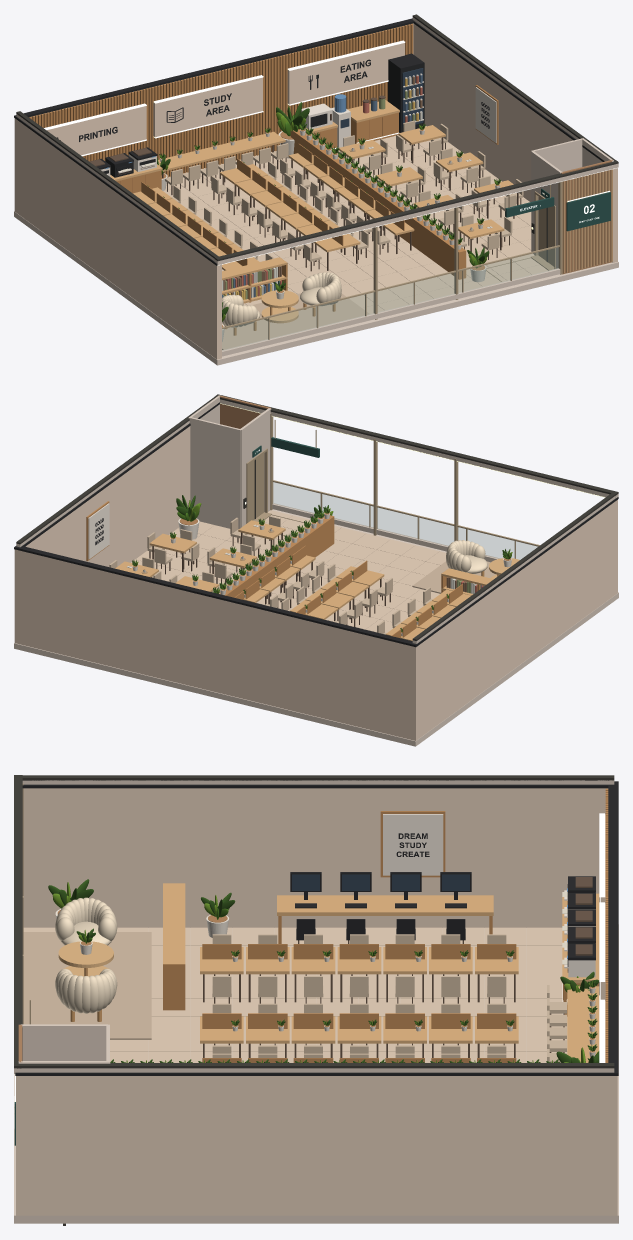
Rendered from Level_02.glb.
3 views of the same model, one above another, from view 1: azimuth 30°, elevation 25°; view 2: azimuth 150°, elevation 25°; view 3: azimuth 270°, elevation 25° (orthographic). The views are drawn at different scales.
Visible parts, largest first — view 1: Second floor slab, walls and entry, Slatted wall and illuminated pictogram signs, Facade | fluted tower, floor marker and cornice, Gallery frontage | glazed parapet, Study carrels.001, Refreshment counter, microwave, water cooler and drinks refr, Lounge seating and coffee table, Aligned elevator | landing doors and well, Floor plate | lift well opening, Study carrels.002, Window study bar and seven stools, Study carrels (+11 smaller); view 2: Second floor slab, walls and entry, Aligned elevator | landing doors and well, Facade | fluted tower, floor marker and cornice, Gallery frontage | glazed parapet, Floor plate | lift well opening, Study carrels.001, Cafe tables and chairs.002, Study carrels.002, Lounge seating and coffee table, Study carrels, Fluted planter partition, Cafe tables and chairs.003 (+5 smaller); view 3: Second floor slab, walls and entry, Study carrels, Facade | fluted tower, floor marker and cornice, Lounge seating and coffee table, Study carrels.001, Computer workstations, Floor plate | lift well opening, Framed wall typography, Five multifunction printers and cabinetry, Aligned elevator | landing doors and well, Window study bar and seven stools, Double-tier library shelf (+4 smaller).
Boxes of the visible parts, <box> form: Second floor slab, walls and entry: <box>14,18,617,359</box>; Slatted wall and illuminated pictogram signs: <box>29,23,413,177</box>; Facade | fluted tower, floor marker and cornice: <box>16,14,618,319</box>; Gallery frontage | glazed parapet: <box>222,245,560,356</box>; Study carrels.001: <box>211,158,368,271</box>; Refreshment counter, microwave, water cooler and drinks refr: <box>301,53,424,150</box>; Lounge seating and coffee table: <box>222,272,369,349</box>; Aligned elevator | landing doors and well: <box>531,138,613,274</box>; Floor plate | lift well opening: <box>14,211,618,365</box>; Study carrels.002: <box>280,143,414,254</box>; Window study bar and seven stools: <box>158,131,288,194</box>; Study carrels: <box>133,182,273,270</box>; Second floor slab, walls and entry: <box>14,402,618,740</box>; Aligned elevator | landing doors and well: <box>188,395,271,529</box>; Facade | fluted tower, floor marker and cornice: <box>16,394,618,643</box>; Gallery frontage | glazed parapet: <box>272,480,539,562</box>; Floor plate | lift well opening: <box>14,509,618,746</box>; Study carrels.001: <box>281,560,392,626</box>; Cafe tables and chairs.002: <box>147,529,259,587</box>; Study carrels.002: <box>234,545,324,608</box>; Lounge seating and coffee table: <box>412,540,519,593</box>; Study carrels: <box>377,584,470,640</box>; Fluted planter partition: <box>219,515,334,597</box>; Cafe tables and chairs.003: <box>230,516,292,557</box>; Second floor slab, walls and entry: <box>15,781,618,1215</box>; Study carrels: <box>200,934,518,1003</box>; Facade | fluted tower, floor marker and cornice: <box>14,775,614,1145</box>; Lounge seating and coffee table: <box>23,897,151,1039</box>; Study carrels.001: <box>200,1003,518,1057</box>; Computer workstations: <box>277,872,493,943</box>; Floor plate | lift well opening: <box>14,924,618,1223</box>; Framed wall typography: <box>380,811,445,877</box>; Five multifunction printers and cabinetry: <box>562,876,599,1016</box>; Aligned elevator | landing doors and well: <box>18,1024,110,1225</box>; Window study bar and seven stools: <box>547,985,599,1062</box>; Double-tier library shelf: <box>163,883,185,1010</box>.
Size of the model in its own units: 16.44 by 4.34 by 14.4.
42 materials, 3 textured.
